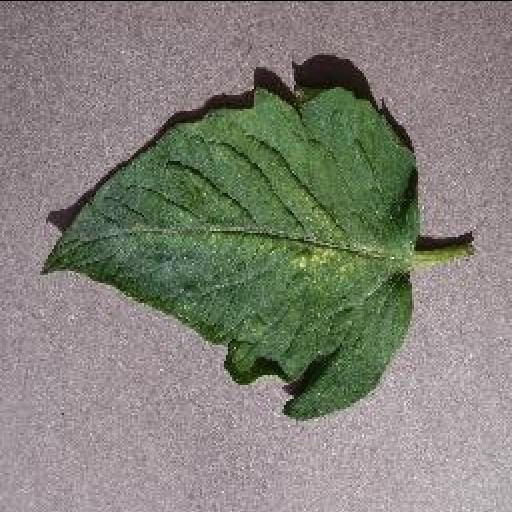disease_tomato: (37, 85, 419, 419)
